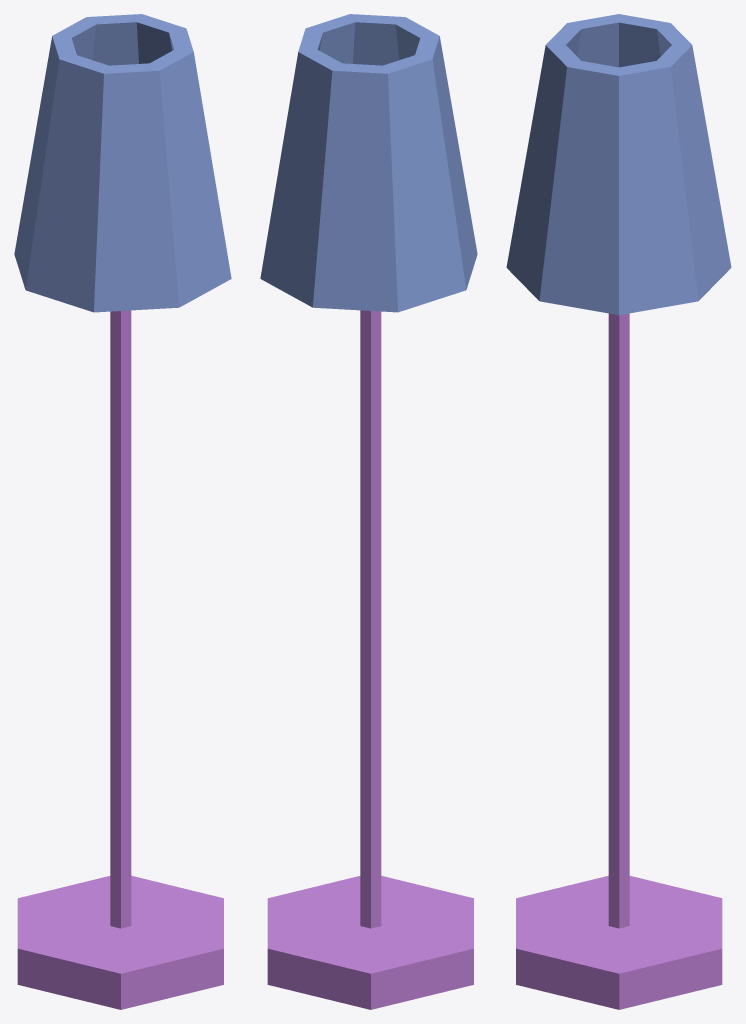
File: Lamp.glb
3 views of the same model, side by side, from view 1: azimuth 30°, elevation 25°; view 2: azimuth 150°, elevation 25°; view 3: azimuth 270°, elevation 25° (orthographic).
Visible parts, largest first — view 1: Lamp_1, Lamp_0; view 2: Lamp_1, Lamp_0; view 3: Lamp_1, Lamp_0.
Boxes of the visible parts, box(x1,y1,x2,y2) form: Lamp_1: box(14, 14, 231, 312); Lamp_0: box(17, 310, 223, 1009); Lamp_1: box(260, 14, 477, 312); Lamp_0: box(267, 310, 473, 1009); Lamp_1: box(506, 14, 731, 315); Lamp_0: box(516, 313, 722, 1009).
Bounding box in the file's own units: 0.2448 × 1.04 × 0.2313.
